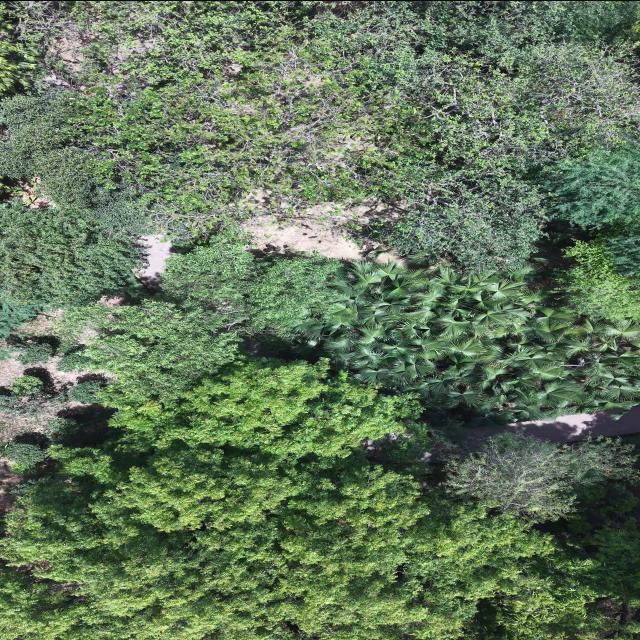DRY_AREA: (469, 406, 639, 443), (472, 406, 639, 443)
VEGETATION_TREE: (0, 1, 639, 639), (2, 1, 639, 309), (2, 358, 613, 639), (11, 1, 637, 270), (2, 442, 633, 639), (5, 443, 552, 639), (295, 262, 639, 422), (64, 240, 339, 398), (0, 90, 151, 308), (108, 359, 418, 456), (530, 136, 639, 319), (443, 432, 637, 522), (160, 241, 338, 331), (85, 300, 238, 398), (544, 482, 639, 637), (536, 145, 639, 248), (552, 241, 639, 321), (0, 369, 106, 425), (0, 38, 44, 97), (0, 394, 63, 418), (0, 300, 36, 338), (2, 443, 45, 473), (68, 379, 106, 403), (14, 341, 53, 364), (56, 346, 89, 372), (6, 376, 42, 395)
